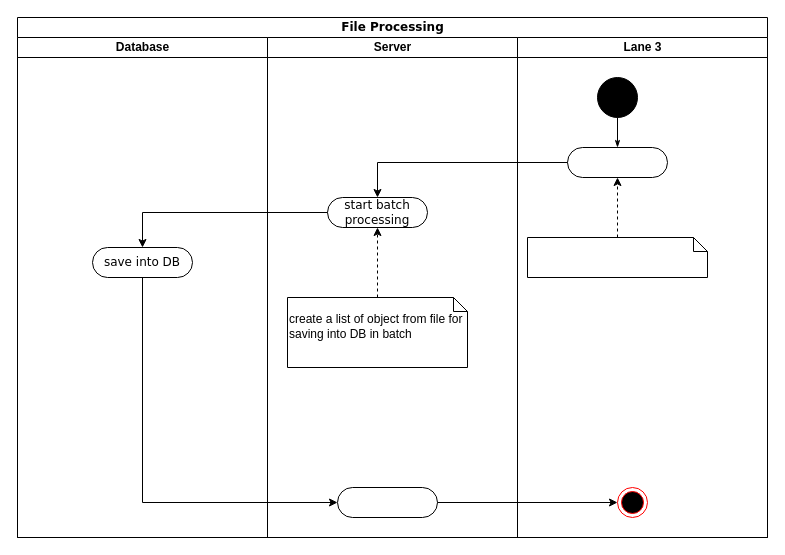
Some shapes in this 785 by 555 pixel diagram are drawn without their labels. The centre of each missing label's shape, as x and y in pixels:
"/api/transactions/upload" goes at point (617, 257).
"return result" goes at point (387, 502).
"upload file" goes at point (617, 162).
